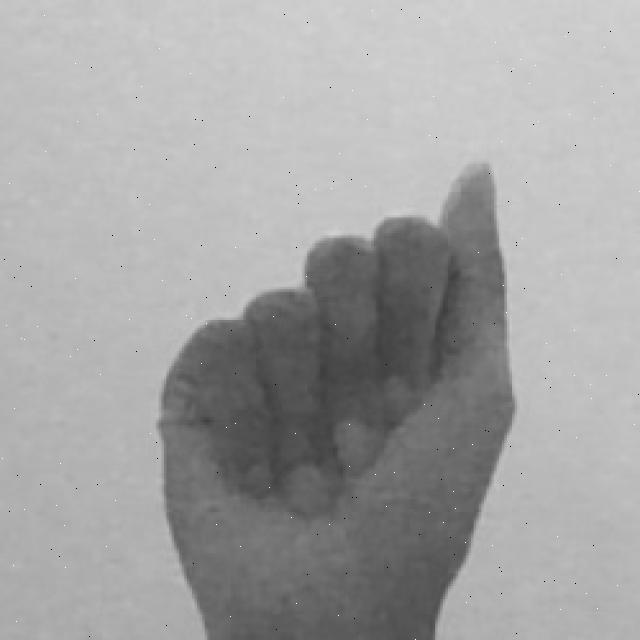A: (152, 150, 527, 640)
